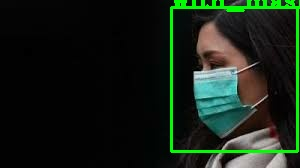with_mask: (192, 19, 269, 134)
